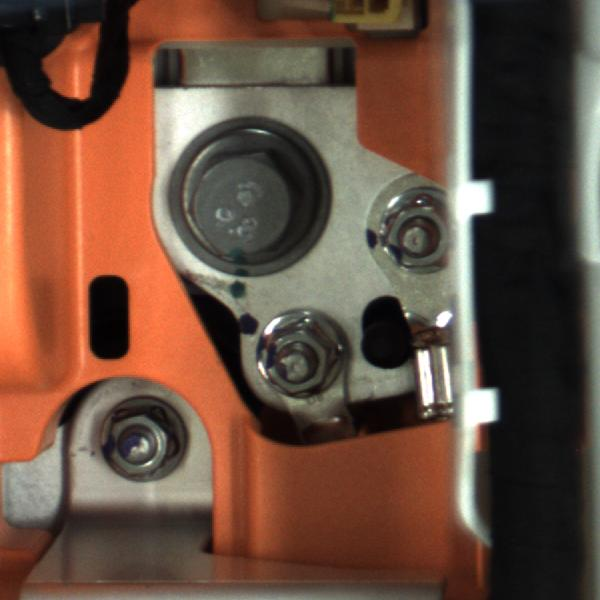nut_b: (162, 121, 327, 296)
screw_s: (95, 383, 196, 485), (241, 313, 347, 408), (368, 179, 452, 276)
